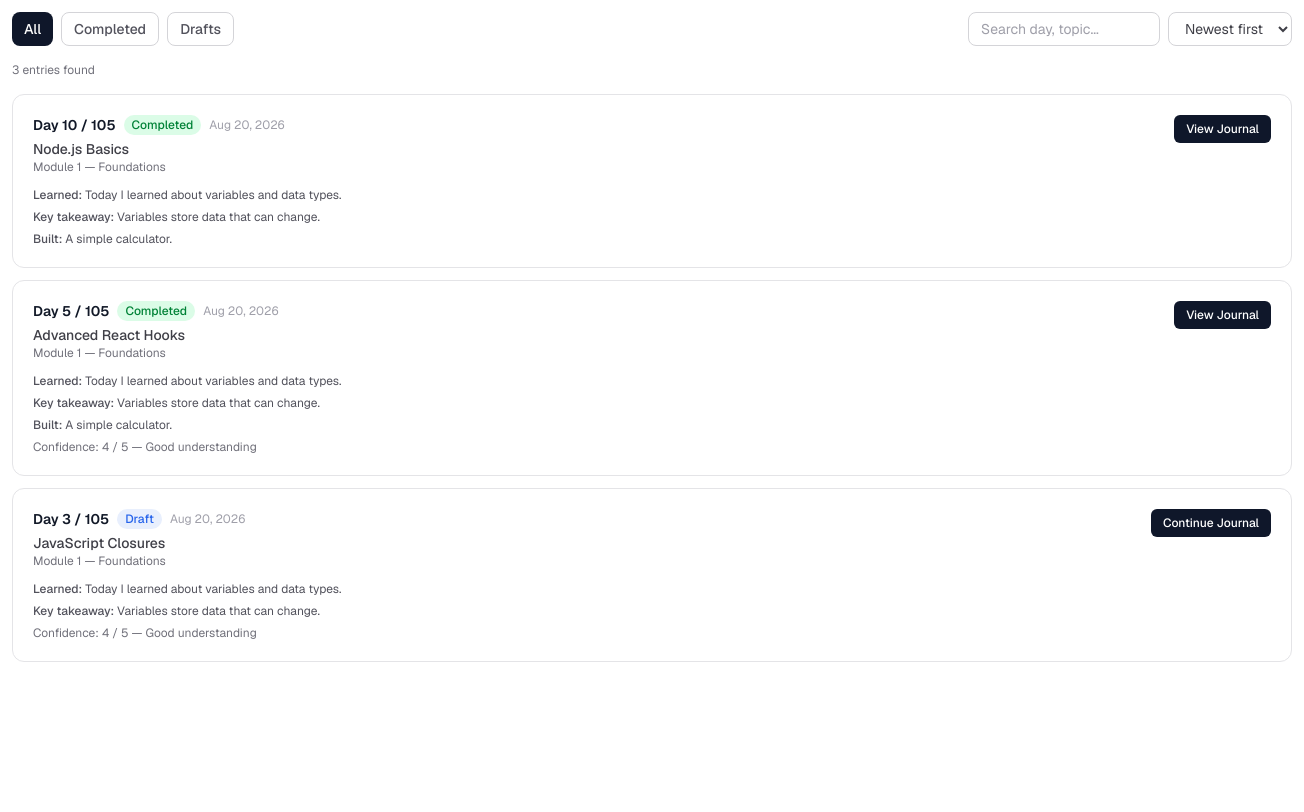
JournalHistoryList › filters completed entries
Step 1. Click the button "Completed" → (110, 29), box [61,12,159,46]
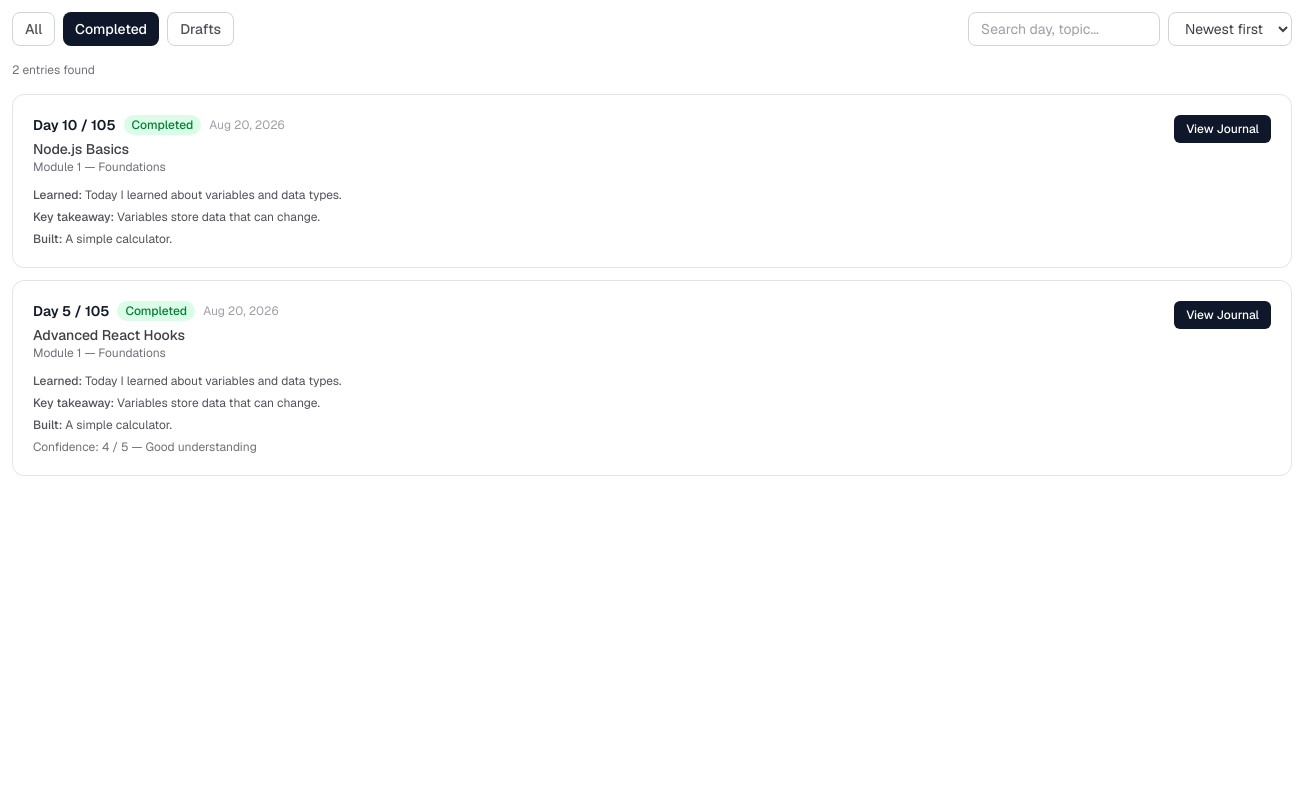
Check: the text "Day 5 / 105" is shown, box [33,301,109,321]
Check: the text "Day 3 / 105" is gone
